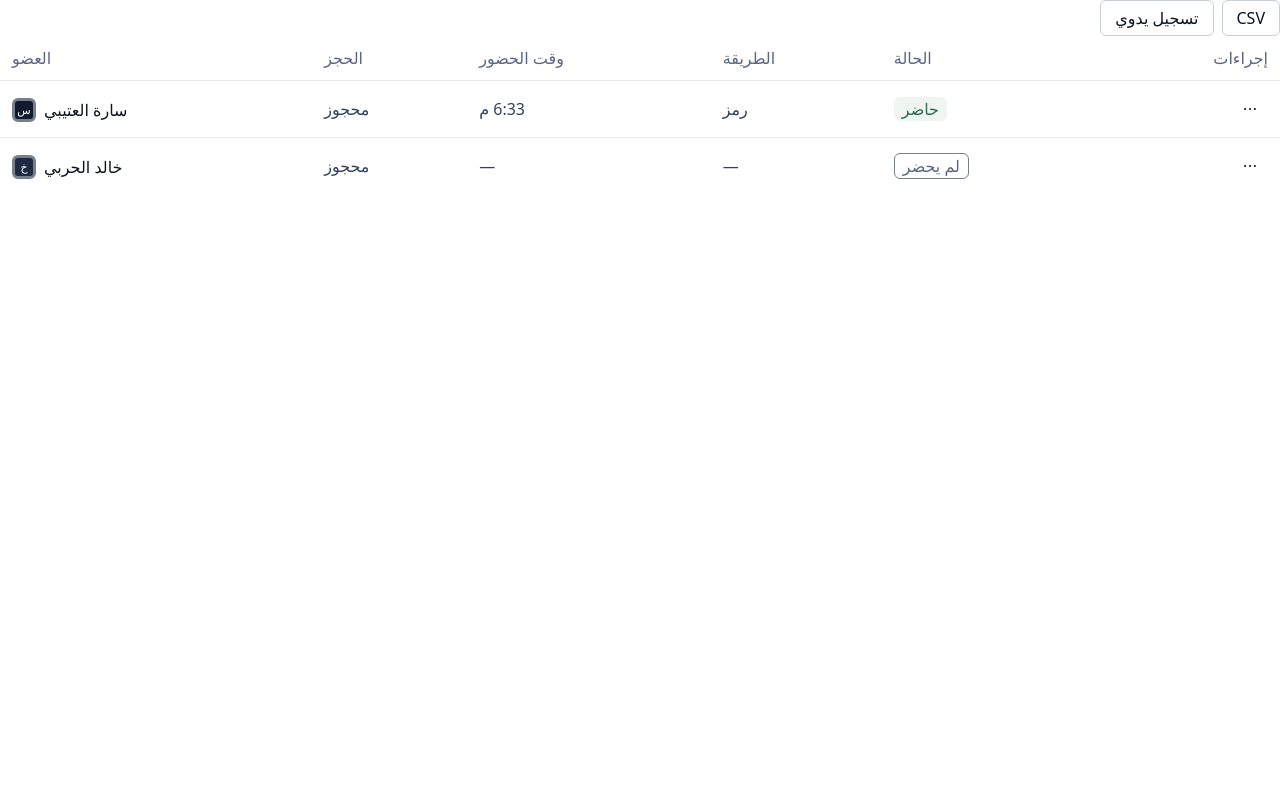
Test: SCR-044's revoke (REQ-CHK-017) › ★ the dialog names both the member and the session (REQ-UIX-013)
Click the button named "إجراءات سارة العتيبي": point(1250, 109) [1232,91,1268,127]
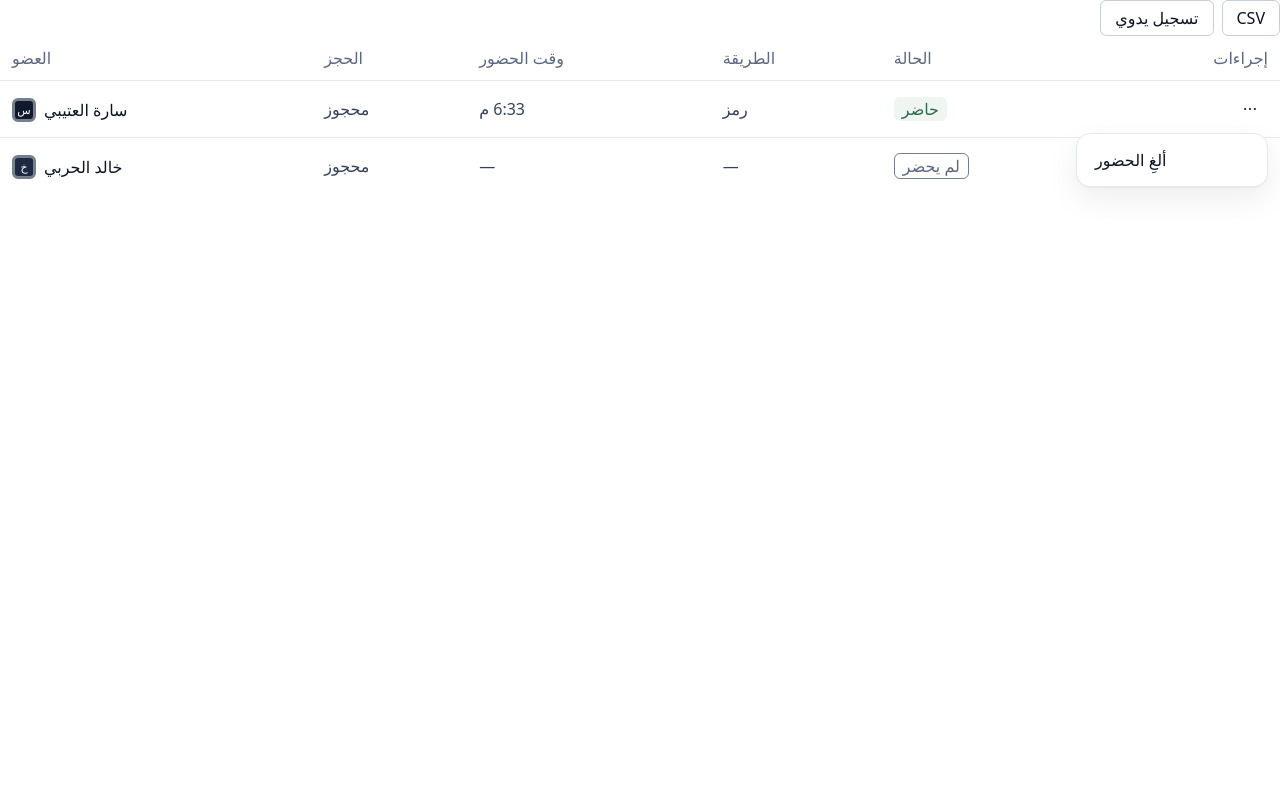
Click the menu item "ألغِ الحضور": point(1131, 160) [1095,149,1166,171]
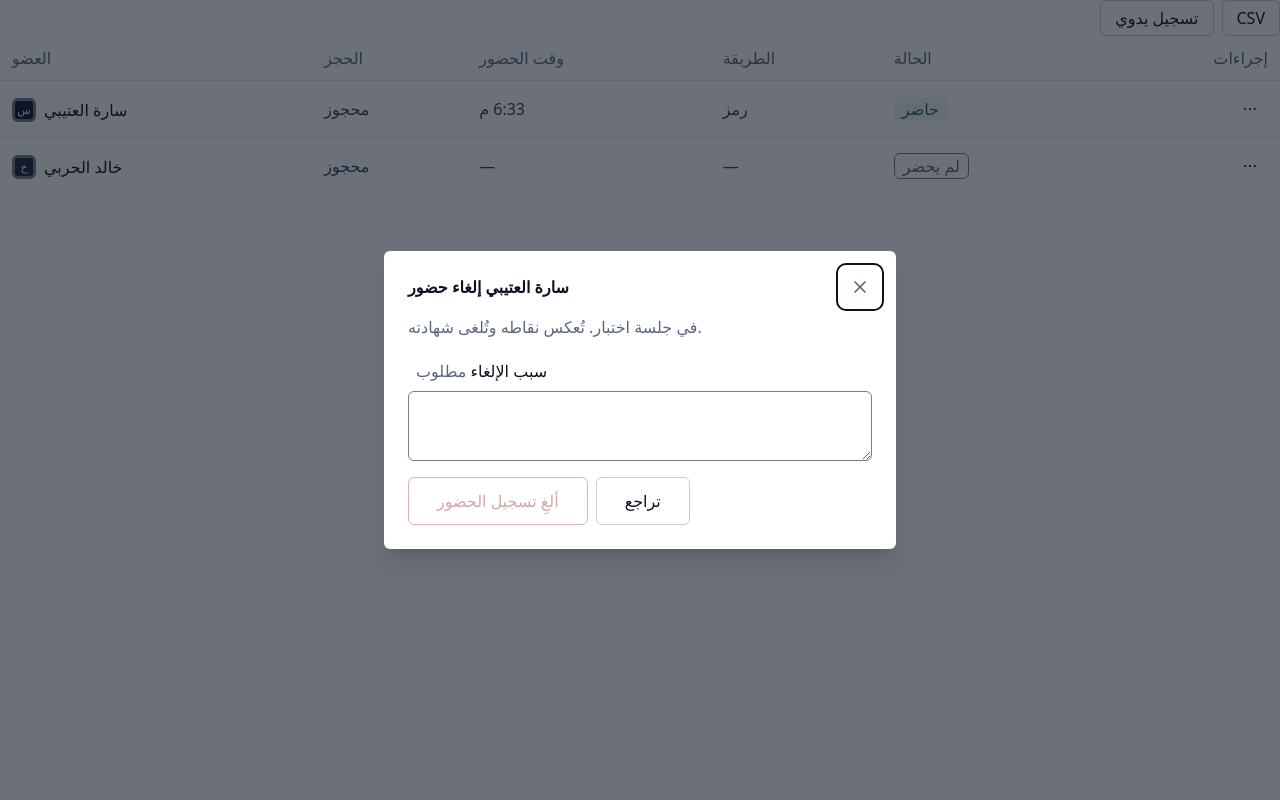
Now the text "سارة العتيبي" is shown, box [486,276,569,298]
Now the text "جلسة اختبار" is shown, box [593,316,672,338]
